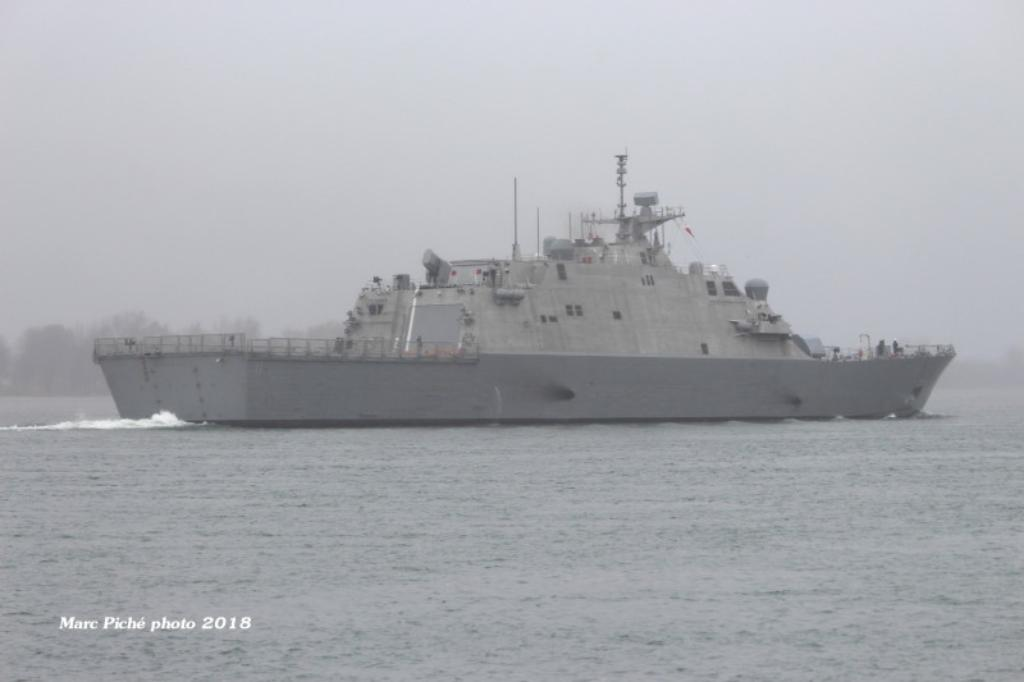Warship: (89, 151, 959, 429)
